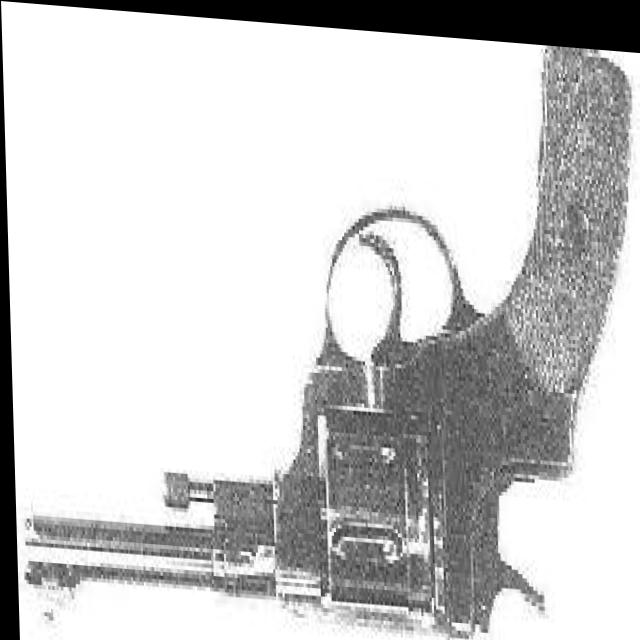handgun: (11, 5, 640, 640)
